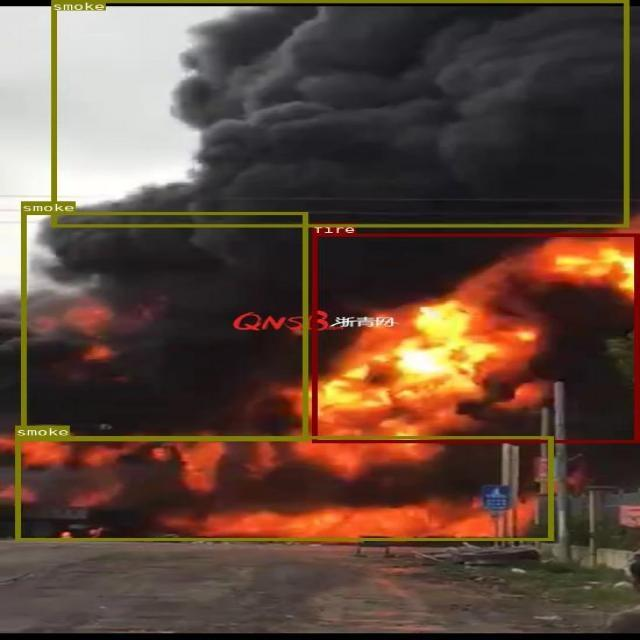fire: (312, 233, 638, 442)
smoke: (50, 0, 627, 226), (21, 212, 307, 441), (14, 436, 552, 540)
